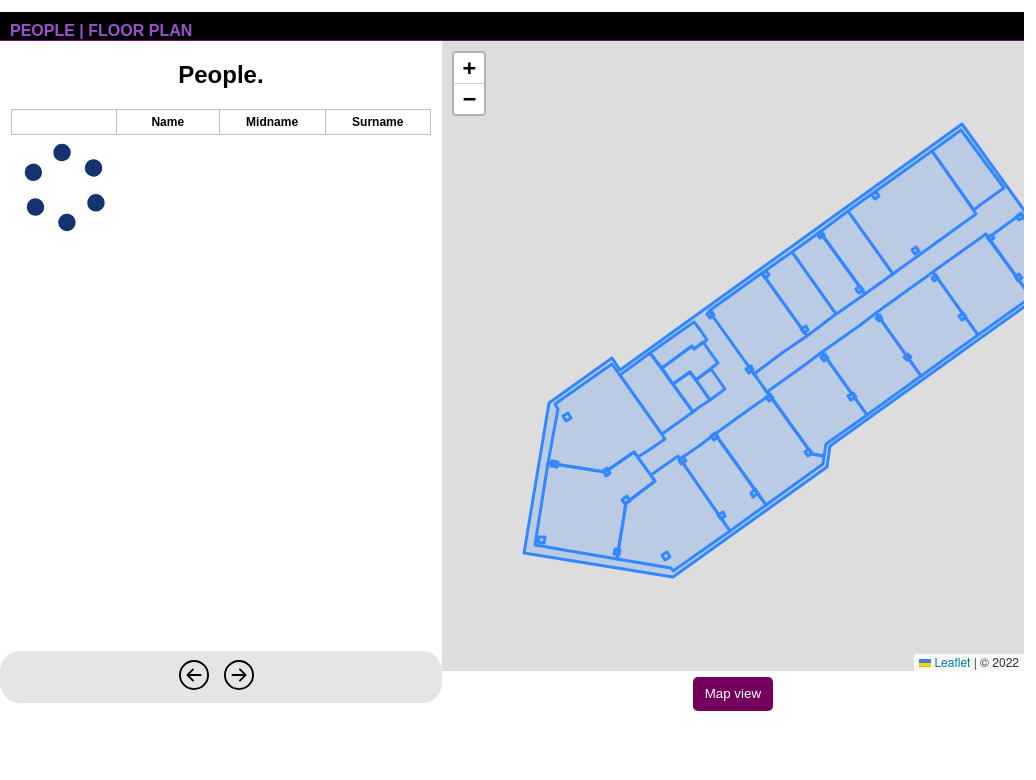
Test case: App E2E › Should click Map view button
The image size is (1036, 780).
Click the button "Map view": (733, 694) [693,677,773,711]
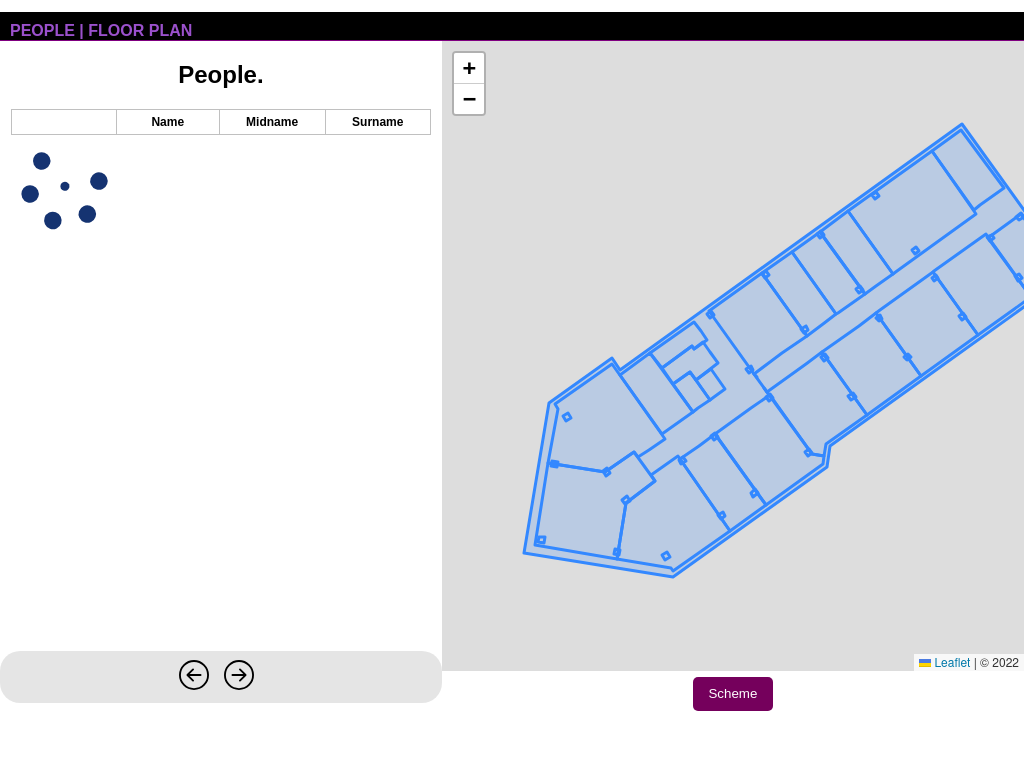
Result: the button "Scheme" is shown at [693,677,773,711]
